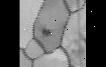good_void: (41, 27, 52, 36)
